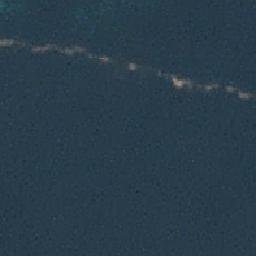debris: (170, 76, 192, 88), (28, 43, 53, 53), (57, 45, 87, 53), (236, 89, 252, 100), (1, 37, 22, 45), (200, 83, 218, 90), (127, 62, 139, 71), (95, 55, 110, 61), (221, 85, 236, 90)
